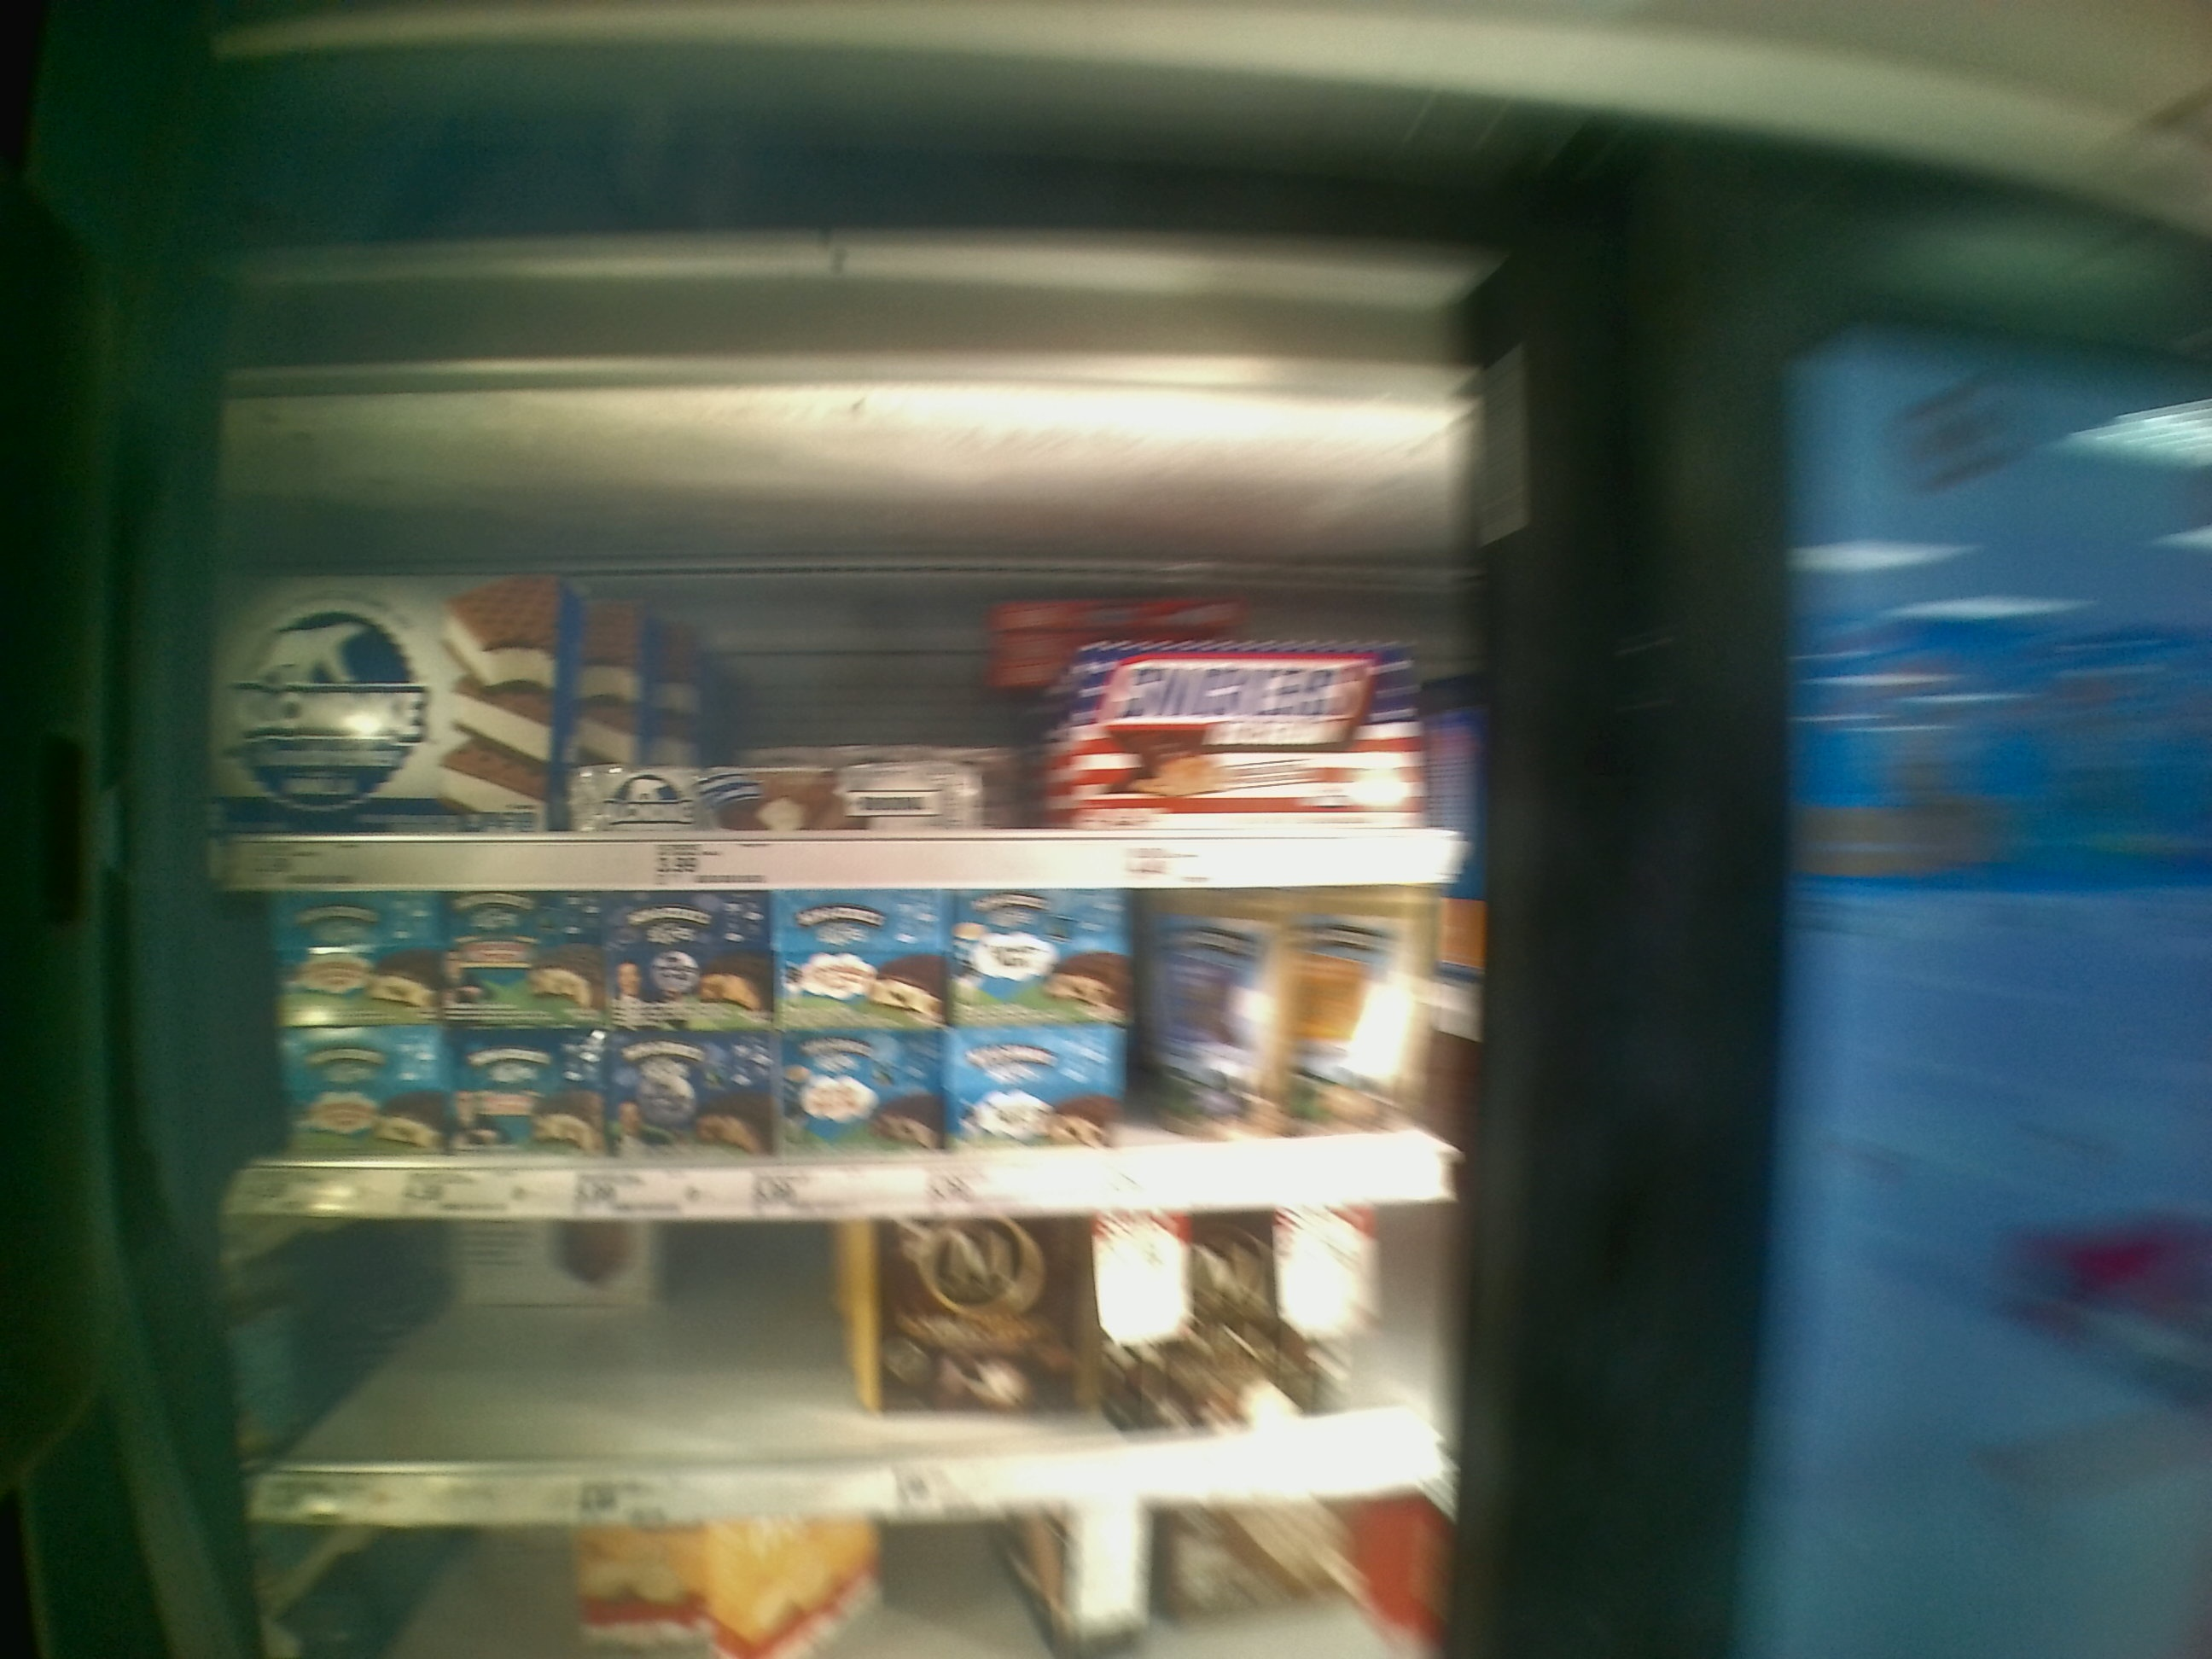ice-cream-shelf: (225, 403, 1468, 892), (200, 892, 1480, 1220), (200, 1220, 1465, 1514)
